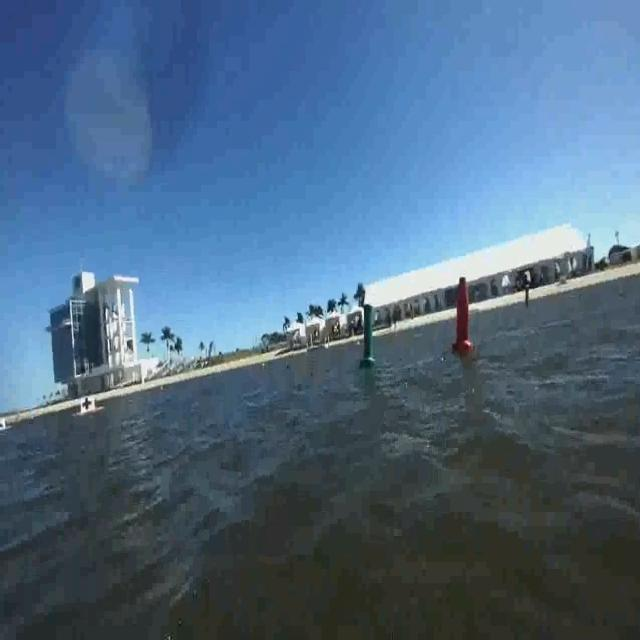green-column-buoy: (358, 303, 376, 369)
red-column-buoy: (452, 274, 474, 354)
